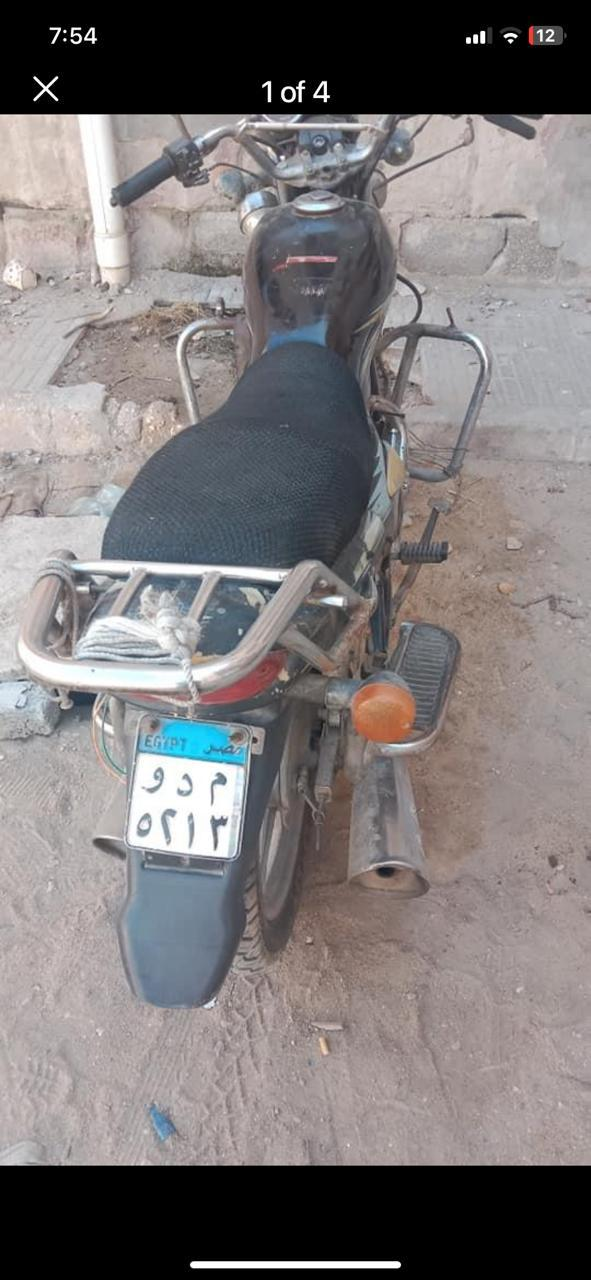License Plate: (123, 710, 251, 862)
